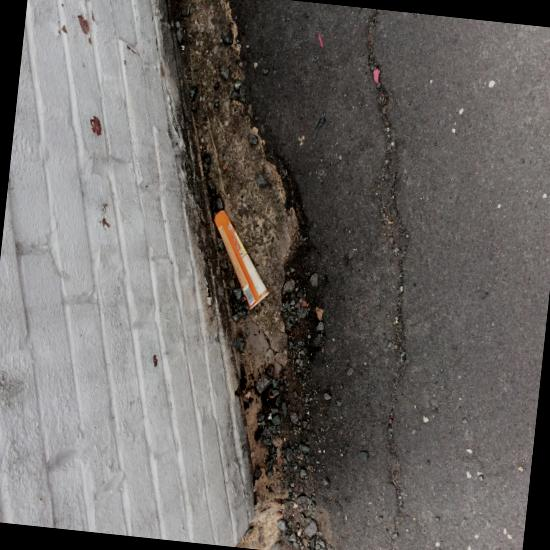Other carton: (214, 210, 269, 310)
